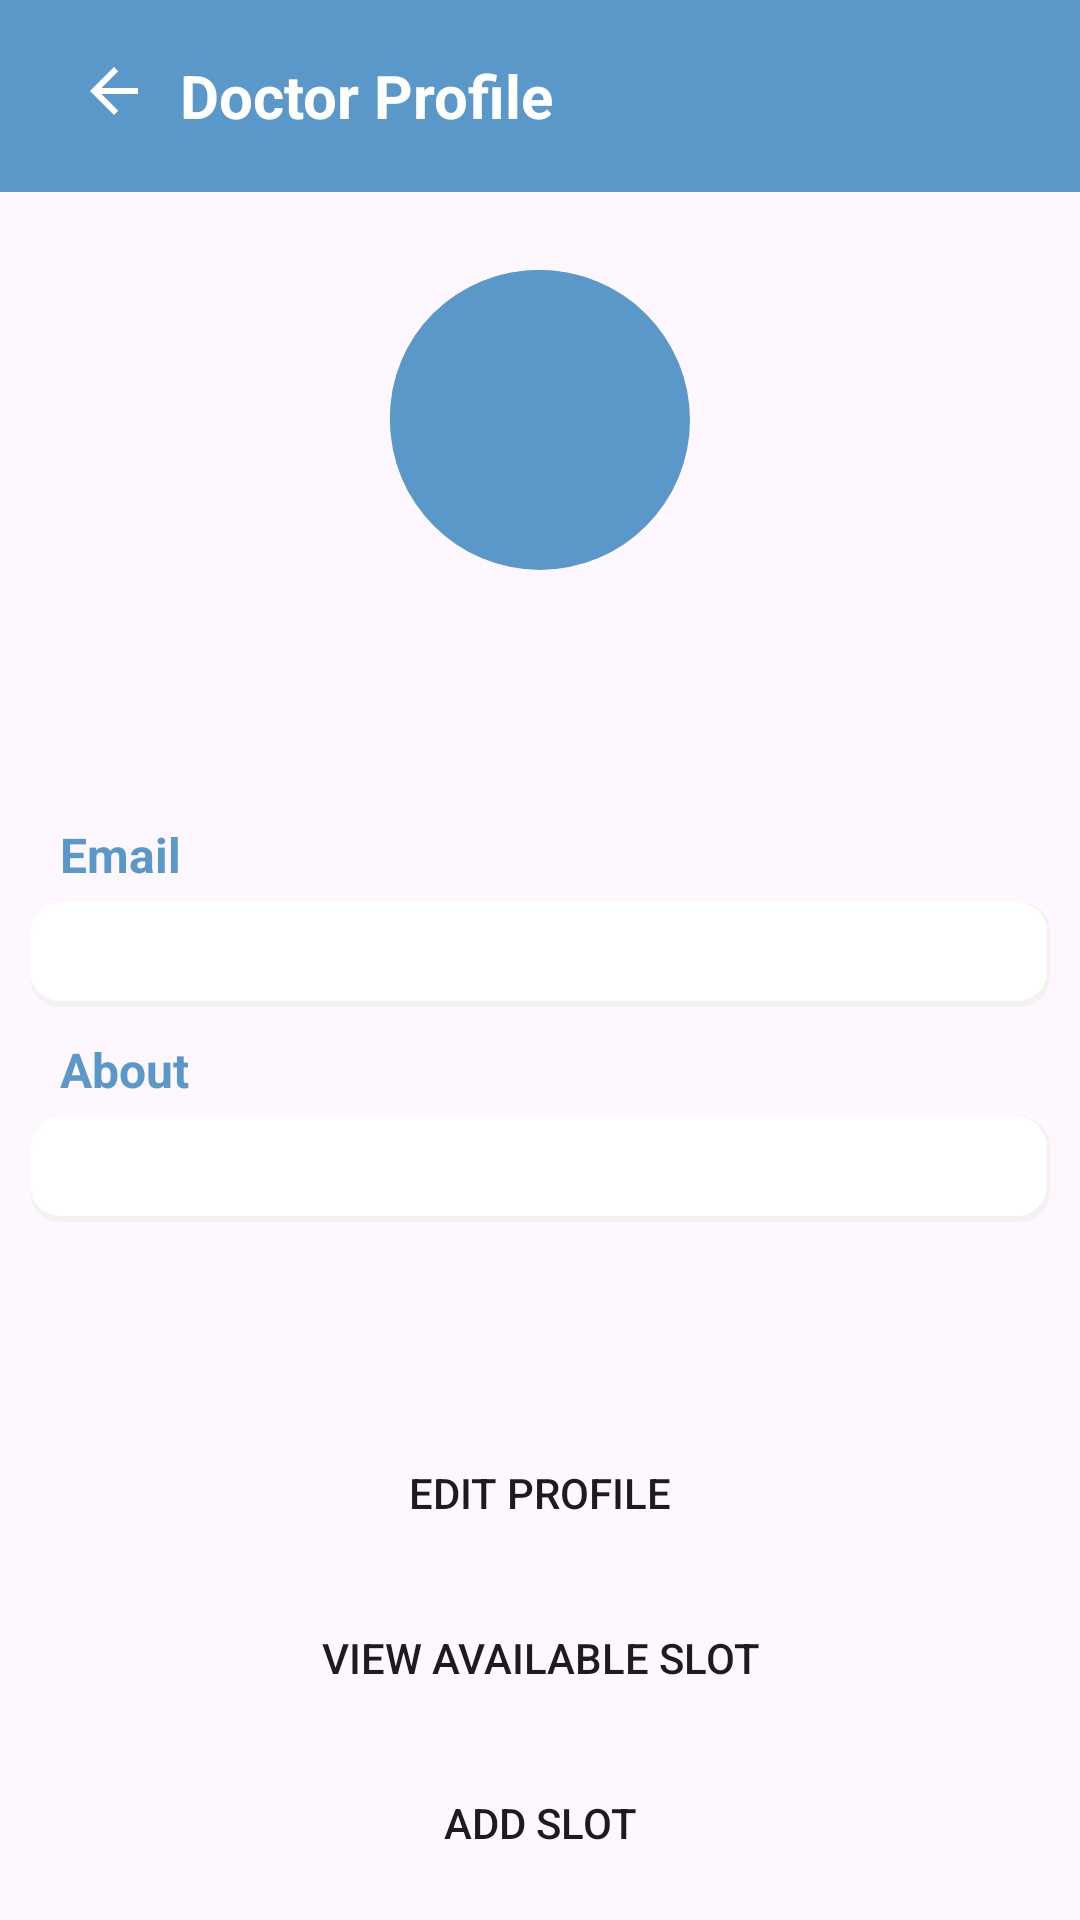

Screen size 1080px x 1920px. Icon name, then its box in pixels as (x1, y1, x2, y2):
back arrow: (90, 67, 138, 115)
